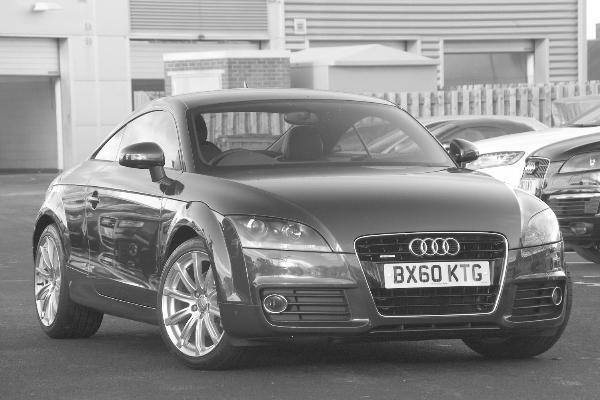car: (31, 87, 577, 365)
